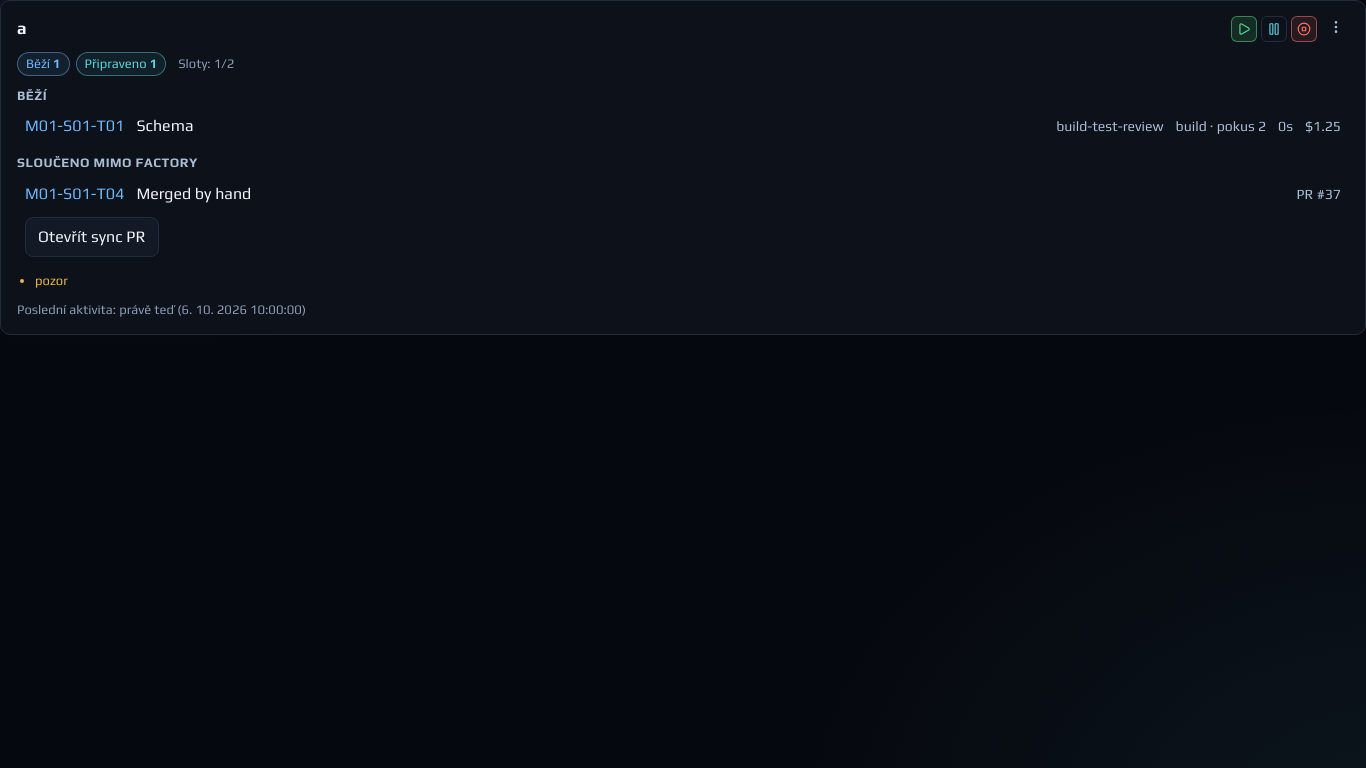
Test: RepoCard layout › shows the path only in the tooltip of the name
The width and height of the screenshot is (1366, 768).
Expected: the text "/work/a" is not shown
Focus the link with test id "card-name" at coordinates (22, 29), box left=17, top=16, right=27, bottom=41
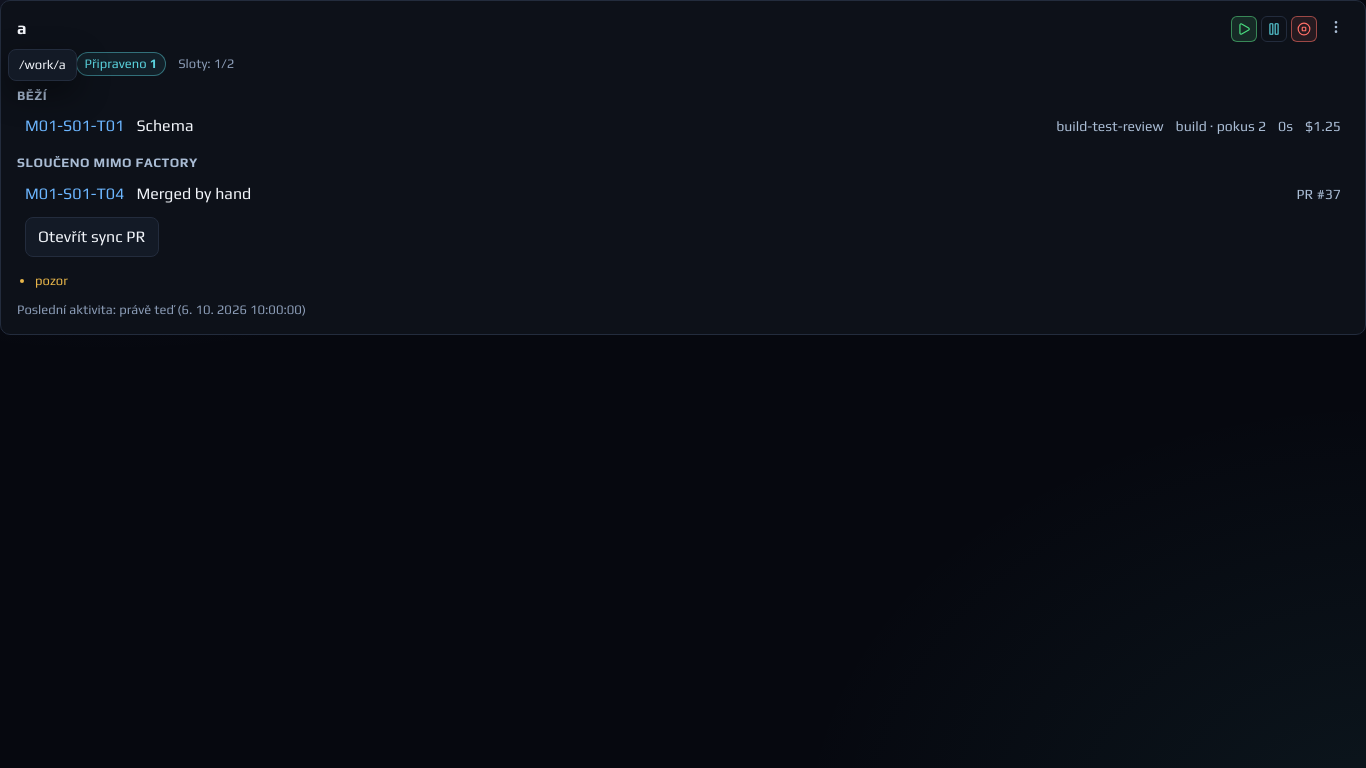
Expected: the tooltip with test id "tooltip" reads "/work/a", left=19, top=57, right=66, bottom=72
